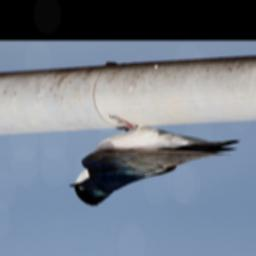Swallow: (69, 114, 240, 207)
